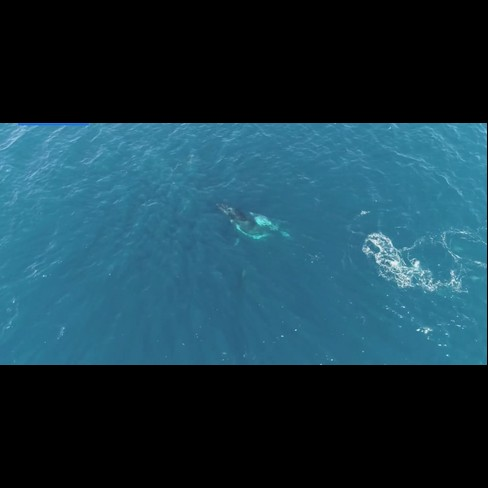orca: (210, 196, 332, 260)
